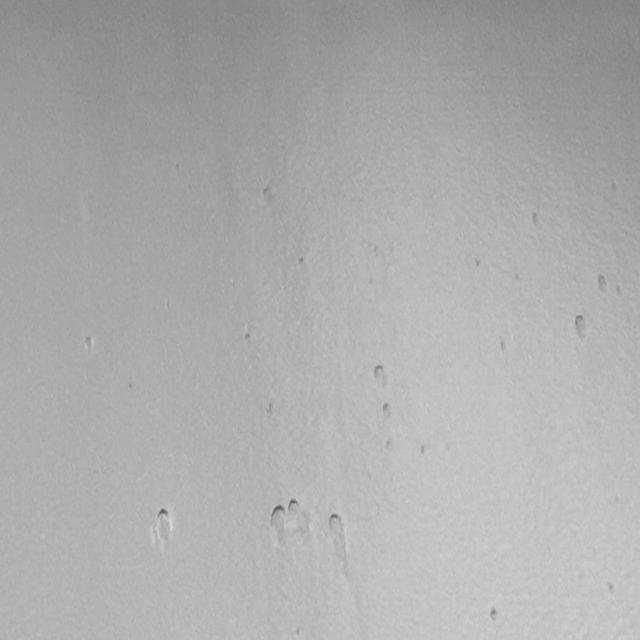pin holes: (323, 515, 350, 565), (151, 506, 175, 546), (266, 503, 289, 535), (570, 312, 590, 341), (370, 362, 389, 388), (528, 210, 548, 233), (493, 336, 512, 359), (602, 578, 621, 600), (593, 272, 610, 296), (286, 496, 303, 520), (485, 604, 503, 625), (258, 184, 276, 205), (294, 252, 311, 274), (379, 401, 395, 421), (82, 334, 97, 354), (612, 284, 626, 301), (242, 330, 256, 346), (264, 402, 277, 419), (416, 442, 428, 460), (383, 437, 395, 454), (473, 258, 485, 272), (293, 626, 304, 640)
